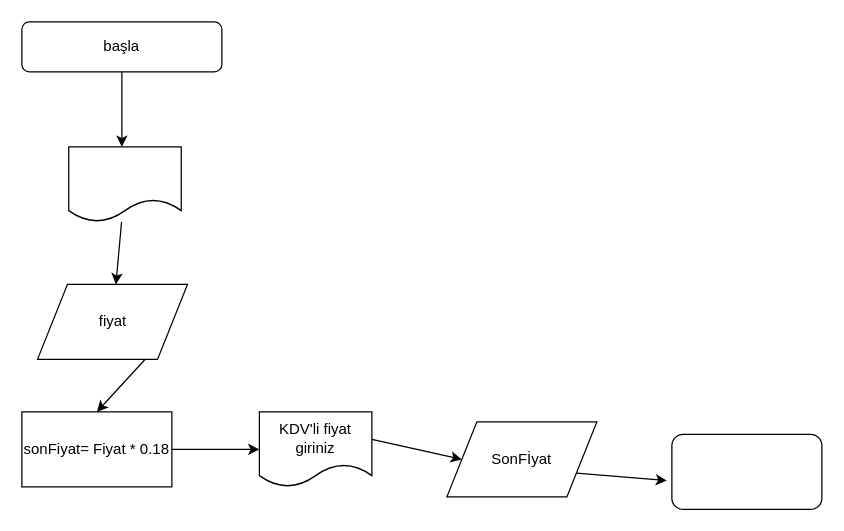
Image size: 844x531. Some labels were removed from this diagram. The shapes that lost their labels are listed below. From the top down, each one's box as (x1, y1, x2, y2) in pixels, then its label:
(68, 146, 181, 222): beyza
(671, 433, 822, 509): bitir
